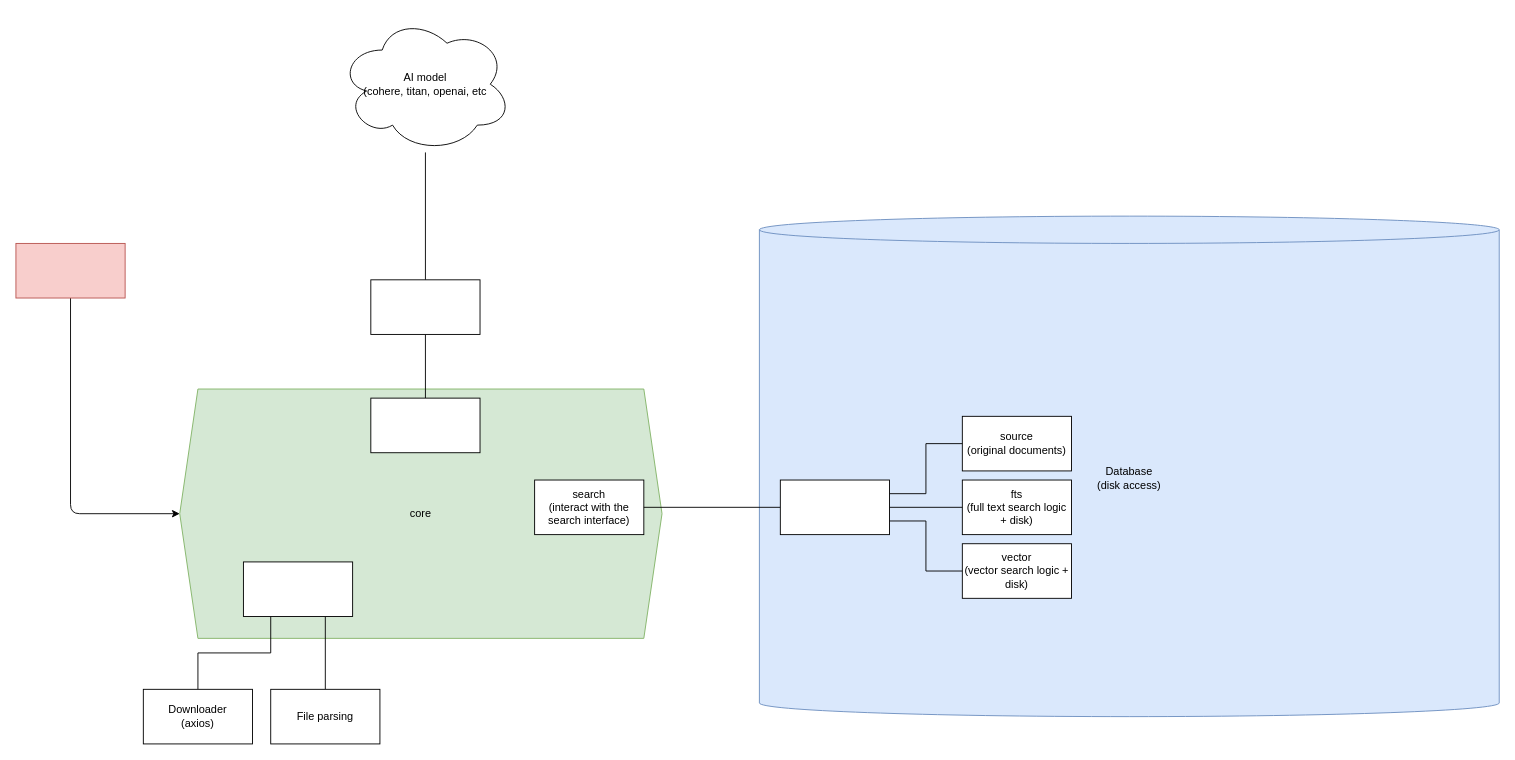
The diagram is 1515 pixels wide and 760 high, and some of its shapes have lost their labels. Each missing label, with the centre of its shape:
AI (AI features): point (425, 425)
AI interface (interact with AI models): point (425, 306)
API (handle input from external users): point (70, 270)
Document extraction fetch, extract and parse documents: point (298, 589)
search interface (interact with the various search algorithms): point (834, 507)
